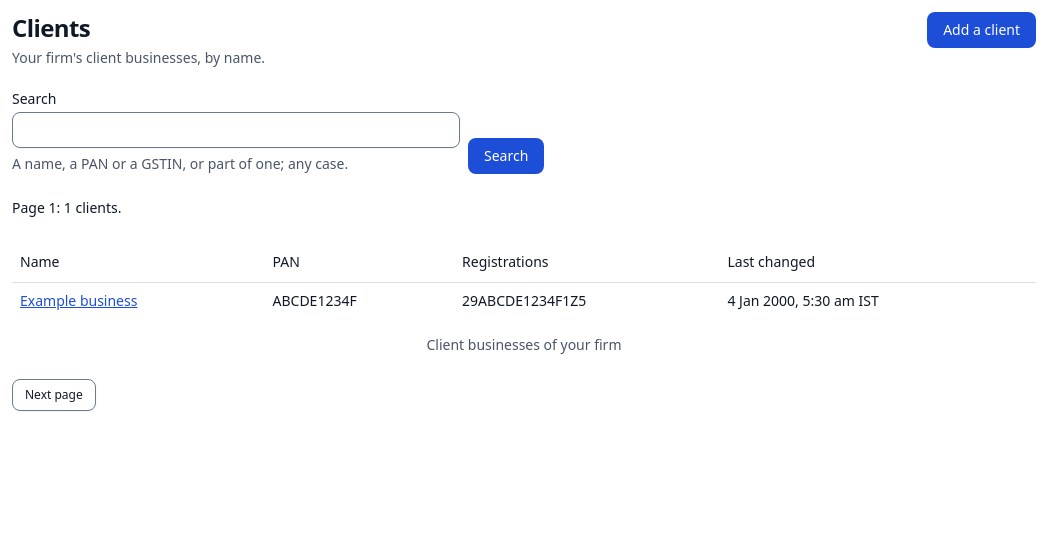
Test: BusinessDirectory › words a failure the service gave no problem for
The image size is (1053, 550).
Click the button "Search" at (506, 156), box [468, 138, 544, 174]
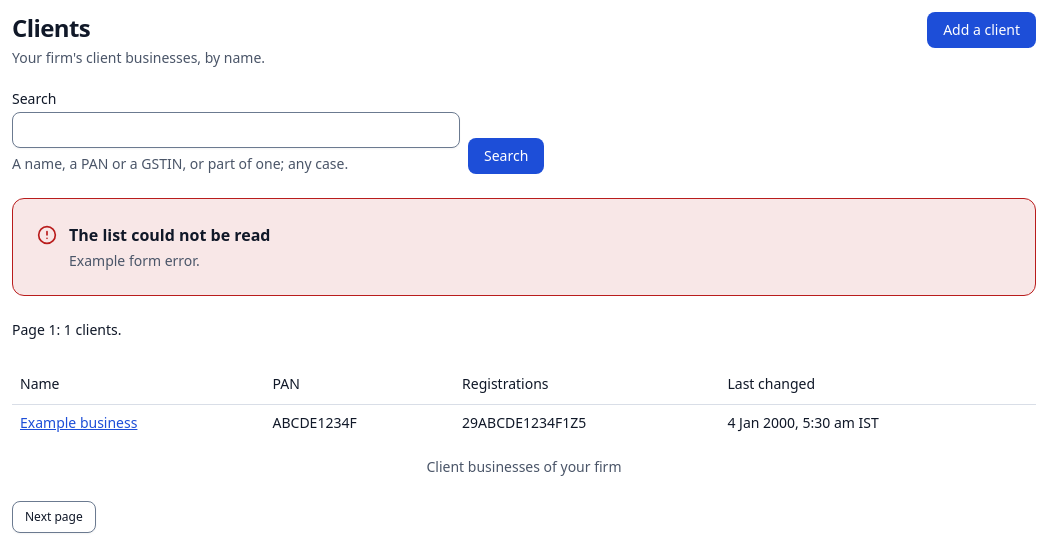
Expected: the text "The list could not be read" is shown, [69, 224, 270, 246]
Expected: the text "Example form error." is shown, [69, 251, 200, 270]
